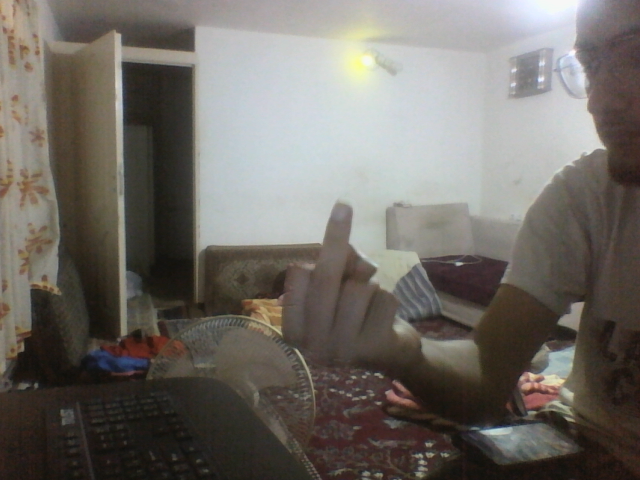fuck: (285, 197, 421, 373)
sorat: (573, 2, 637, 185)
